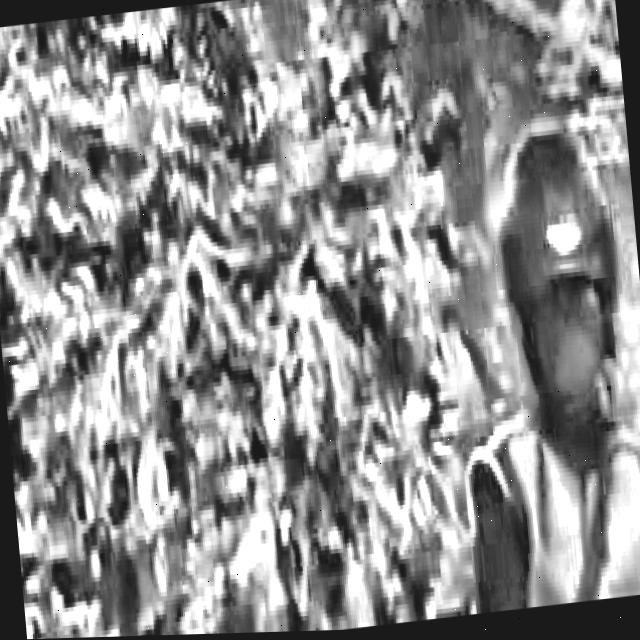Lori: (184, 61, 640, 636)
